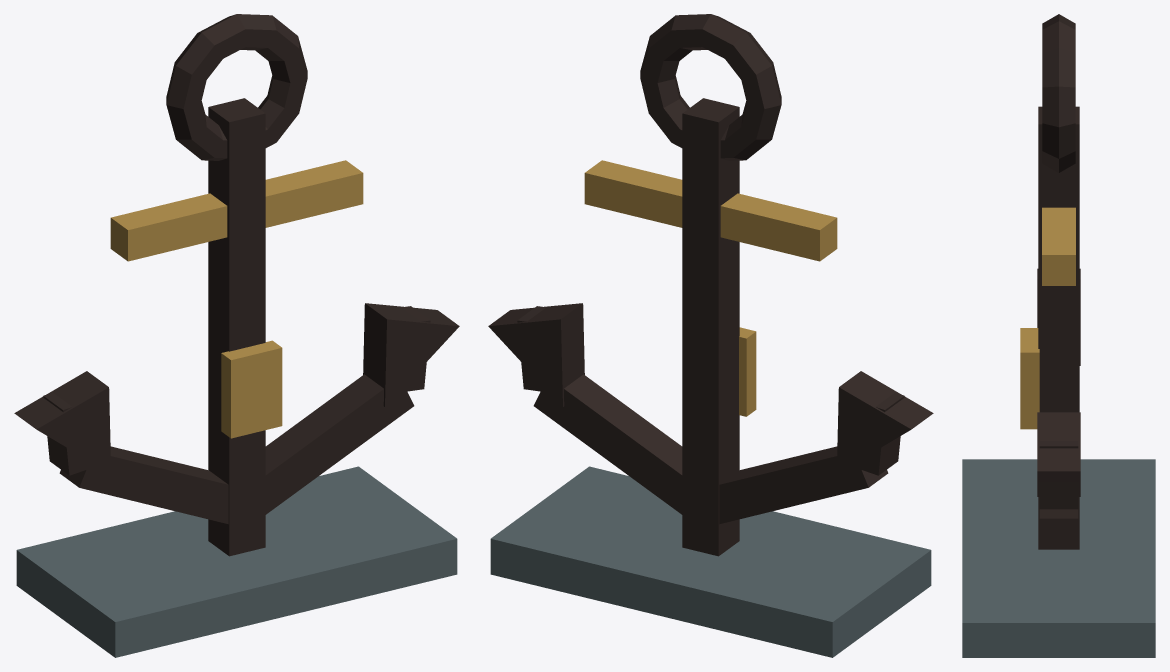
Rendered from PirateCove_Anchor_Standard.glb.
3 renders of one model, left to right at view 1: azimuth 30°, elevation 25°; view 2: azimuth 150°, elevation 25°; view 3: azimuth 270°, elevation 25°, orthographic. The views are drawn at different scales.
Visible parts, largest first — view 1: PirateCove_Anchor_Standard; view 2: PirateCove_Anchor_Standard; view 3: PirateCove_Anchor_Standard.
Boxes of the visible parts, x1,y1,x2,y2 form: PirateCove_Anchor_Standard: (14,14,459,657); PirateCove_Anchor_Standard: (488,14,933,657); PirateCove_Anchor_Standard: (962,14,1155,657).
Bounding box in the file's own units: 1.98 × 2.53 × 0.8.
